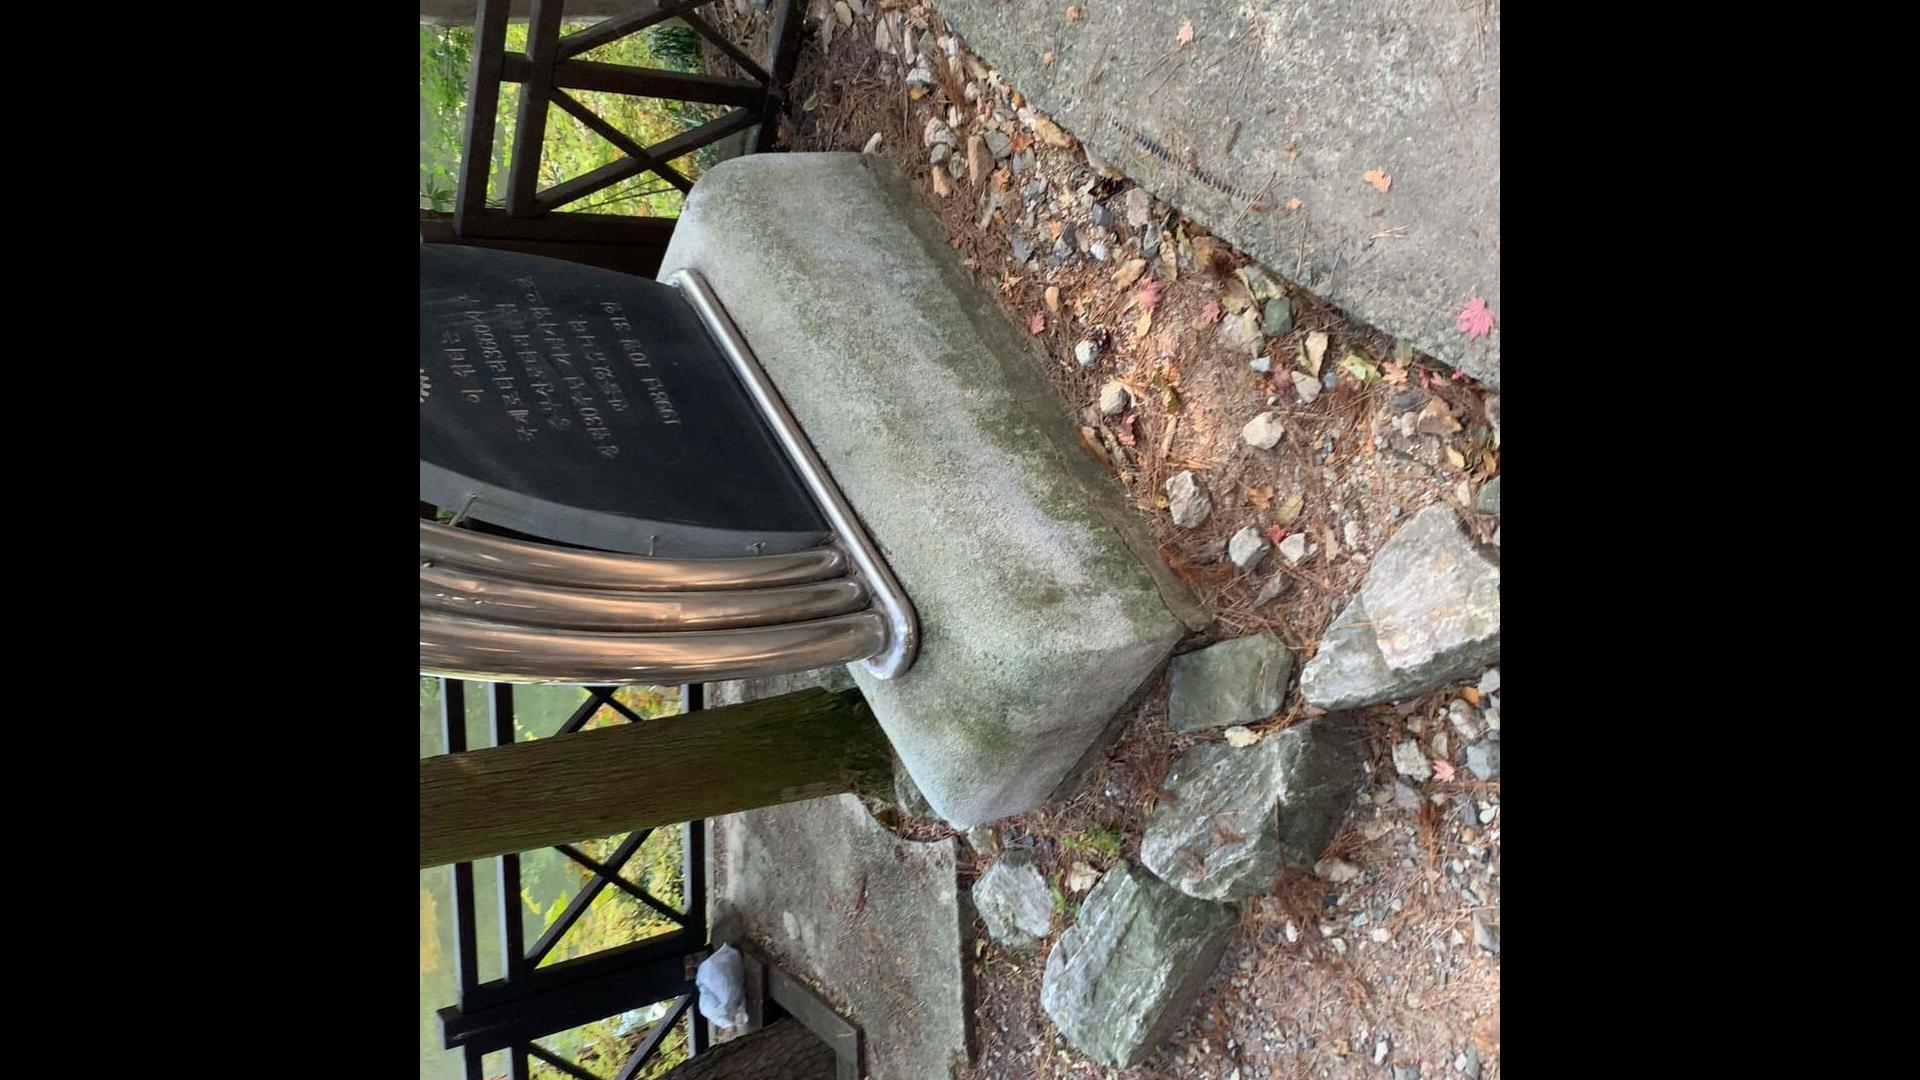white_bag: (684, 938, 752, 1035)
